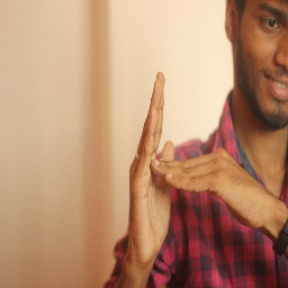Z: (122, 68, 261, 258)
